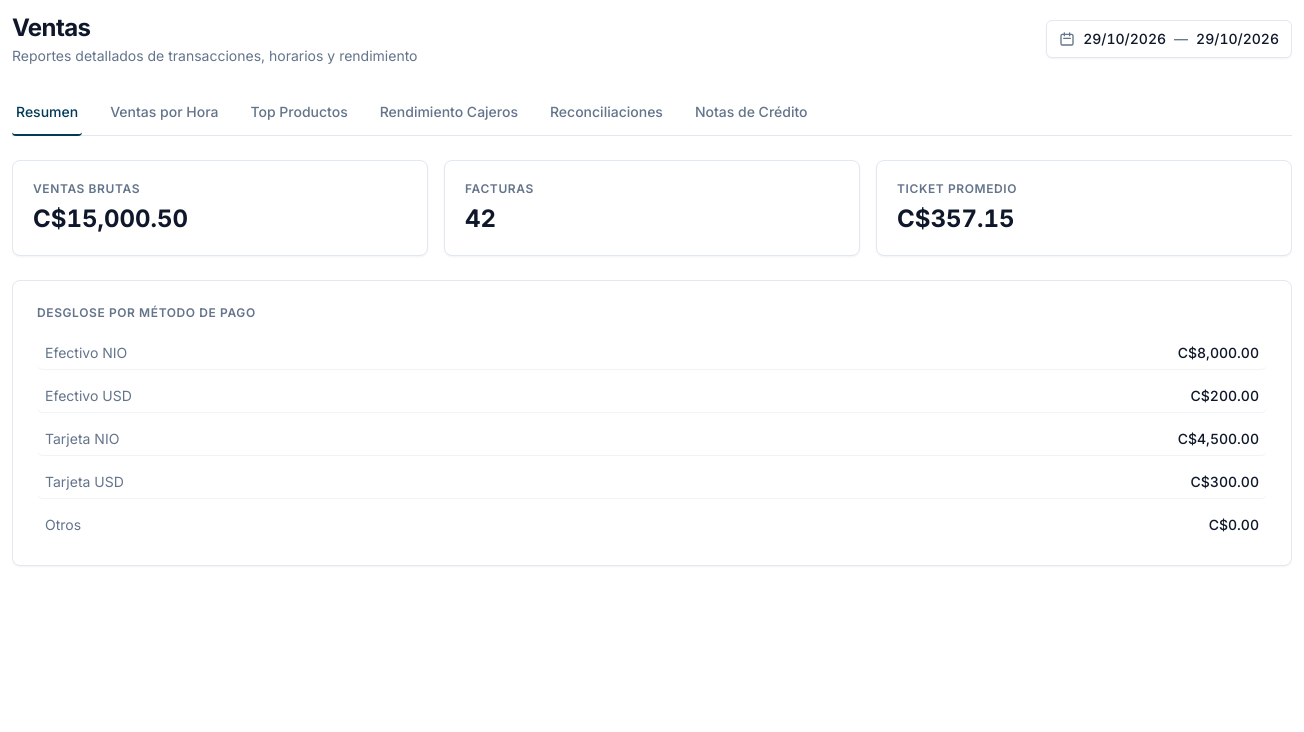
Test: W2 — SalesPage › switches to hourly tab
The image size is (1304, 732).
Click the button "Ventas por Hora".
click(164, 113)  # box [106,90,222,136]
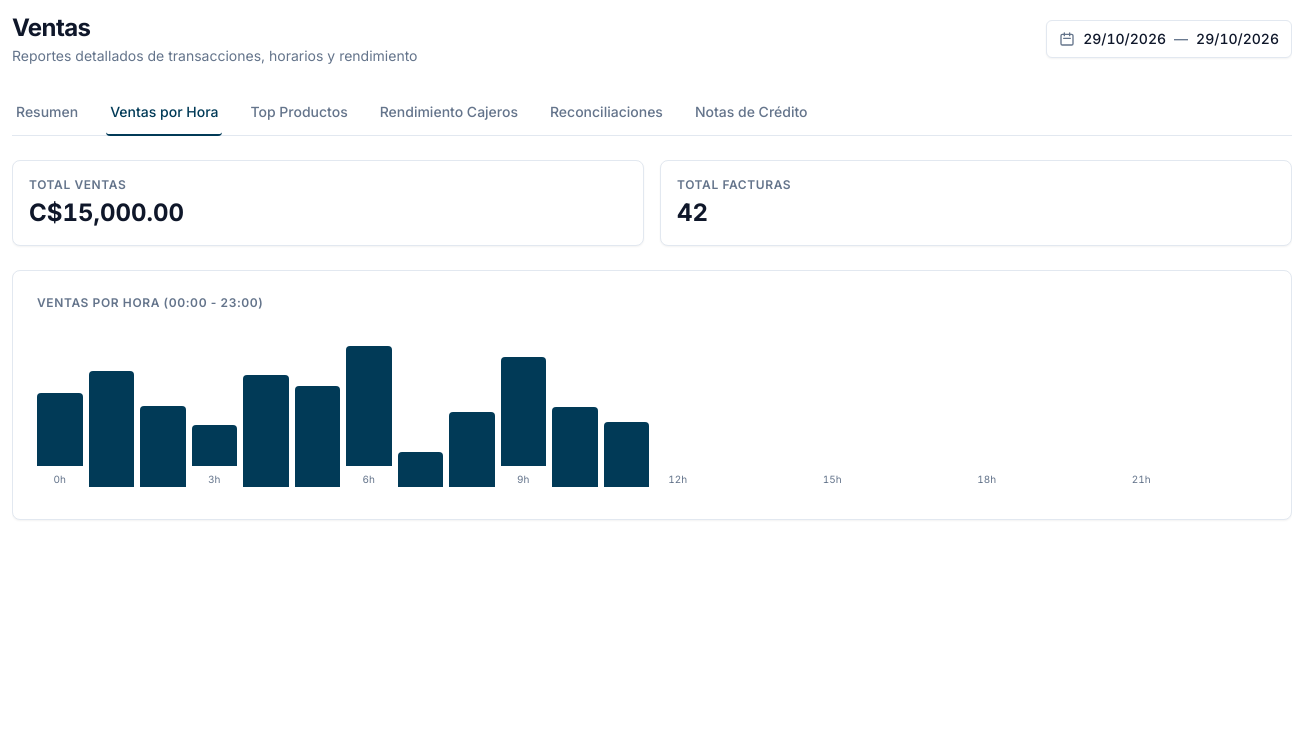
Result: the text "Total Ventas" is shown at [29,177,126,192]
